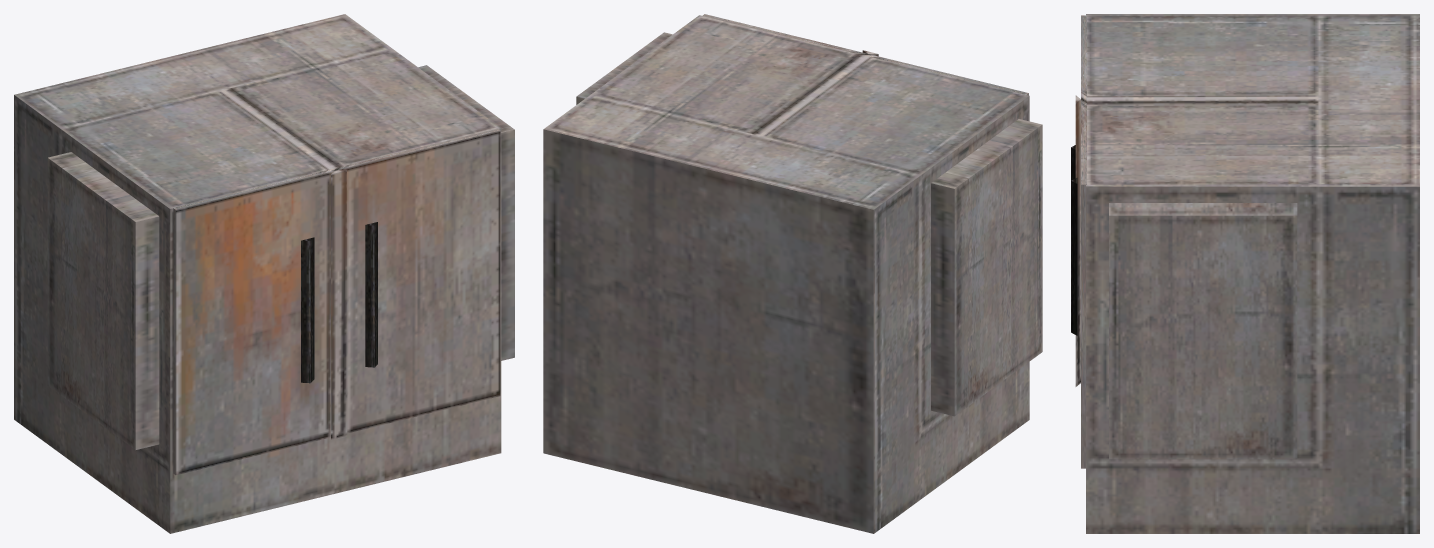
Rendered from frn_all_chep_chest_s01_l1.fbx.
3 renders of one model, left to right at view 1: azimuth 30°, elevation 25°; view 2: azimuth 150°, elevation 25°; view 3: azimuth 270°, elevation 25°, orthographic. The views are drawn at different scales.
Visible parts, largest first — view 1: mesh_node; view 2: mesh_node; view 3: mesh_node.
Boxes of the visible parts, <box> form: mesh_node: <box>14,14,514,533</box>; mesh_node: <box>543,14,1042,533</box>; mesh_node: <box>1071,14,1419,533</box>.
Size of the model in its own units: 1.15 by 0.9382 by 0.8531.
1 material, 1 textured.
